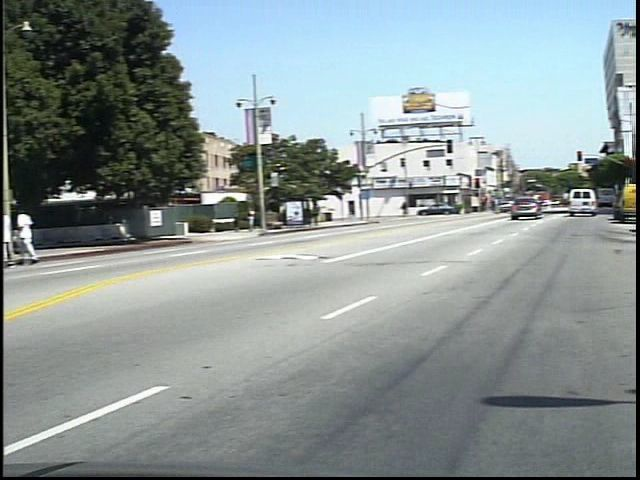person: (253, 207, 268, 236), (242, 208, 256, 234), (411, 199, 420, 219)
